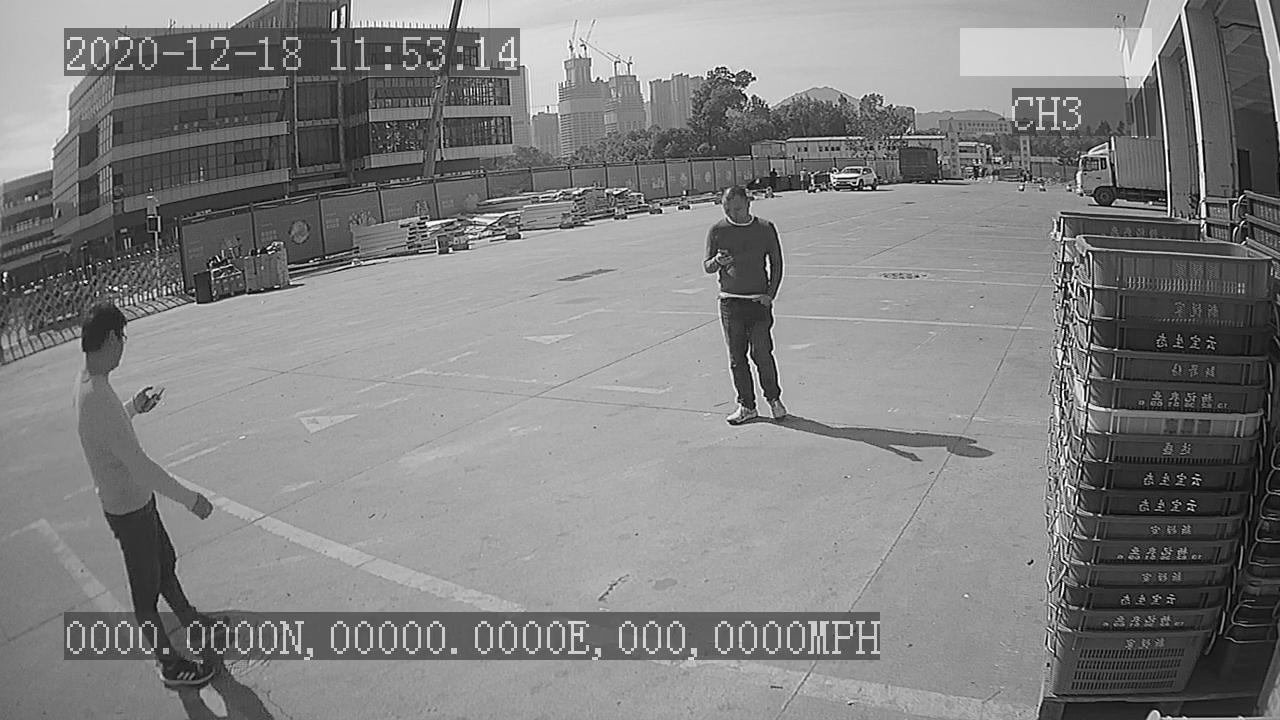person: (697, 179, 799, 433)
